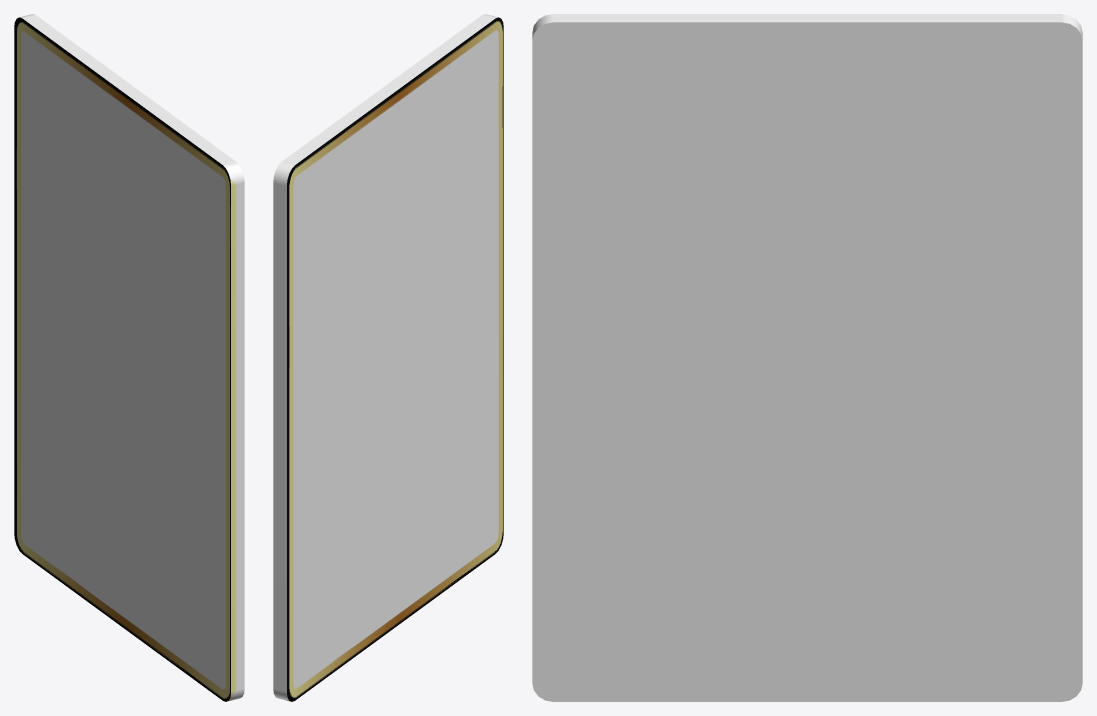
The model's file is mod_ArtistLabel.fbx.
The picture shows the model from 3 angles, left to right: view 1: azimuth 30°, elevation 25°; view 2: azimuth 150°, elevation 25°; view 3: azimuth 270°, elevation 25°; orthographic projection. The views are drawn at different scales.
Parts seen in each view (by area): view 1: Mod_ArtistLabel; view 2: Mod_ArtistLabel; view 3: Mod_ArtistLabel.
Part boxes in pixels (x1,y1,x2,y2): Mod_ArtistLabel: (14,14,244,701); Mod_ArtistLabel: (273,14,503,701); Mod_ArtistLabel: (532,14,1082,701).
Size of the model in its own units: 2.39 by 89.99 by 66.07.
